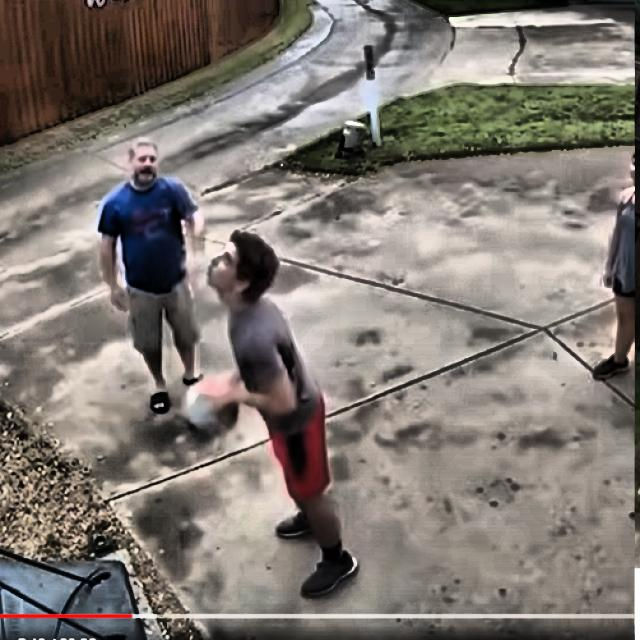Human: (212, 220, 372, 600), (92, 140, 200, 419)
